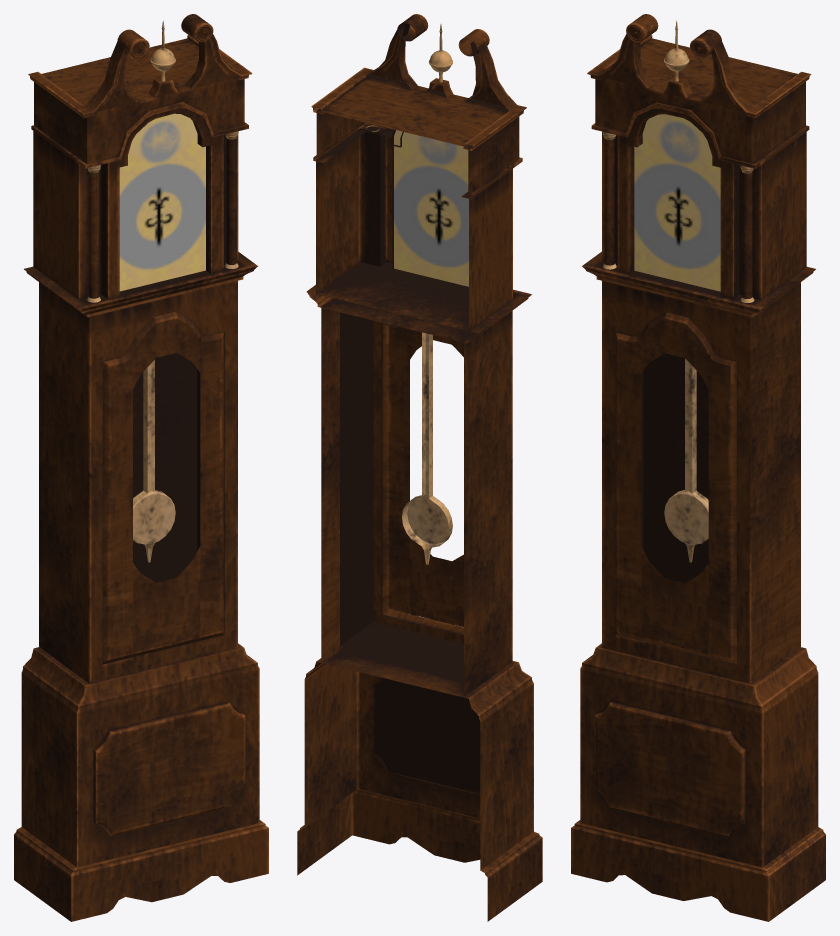
3 renders of one model, left to right at view 1: azimuth 30°, elevation 25°; view 2: azimuth 150°, elevation 25°; view 3: azimuth 330°, elevation 25°, orthographic. The views are drawn at different scales.
Parts seen in each view (by area): view 1: Clock; view 2: Clock; view 3: Clock.
Boxes of the visible parts, bbox=[...] form: Clock: bbox=[14, 14, 268, 921]; Clock: bbox=[297, 14, 542, 921]; Clock: bbox=[571, 14, 825, 921].
Bounding box in the file's own units: 18 × 75.9 × 9.46.
1 material, 1 textured.
